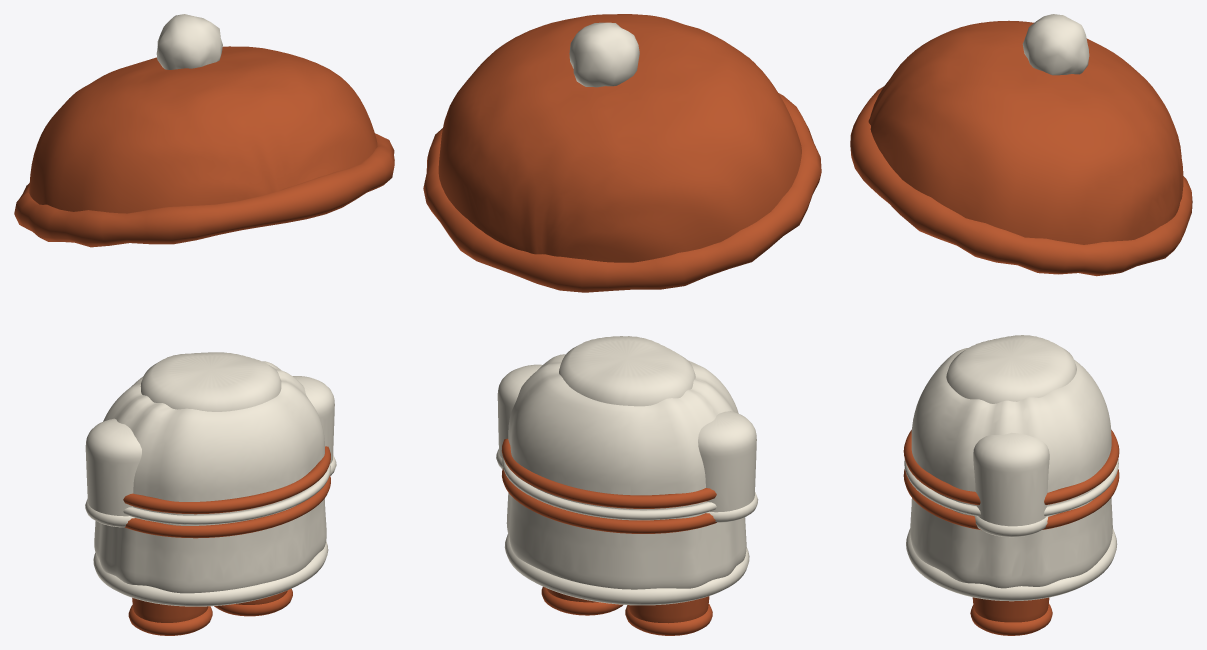
Rendered from sun.glb.
The picture shows the model from 3 angles, left to right: view 1: azimuth 30°, elevation 25°; view 2: azimuth 150°, elevation 25°; view 3: azimuth 270°, elevation 25°; orthographic projection. The views are drawn at different scales.
Visible parts, largest first — view 1: sun_Head_00_beanie, sun_Torso_00_sweater, sun_Head_01_beanie_cuff, sun_Torso_04_turtleneck, sun_ArmL_00_sleeve, sun_Torso_05_hem, sun_Head_02_beanie_pompom, sun_Torso_01_stripe0, sun_Torso_02_stripe1, sun_Torso_03_stripe_mid, sun_ArmR_00_sleeve.001, sun_Legs_00_joggers-1 (+2 smaller); view 2: sun_Head_00_beanie, sun_Torso_00_sweater, sun_Head_01_beanie_cuff, sun_Torso_04_turtleneck, sun_ArmL_00_sleeve, sun_Torso_05_hem, sun_Head_02_beanie_pompom, sun_Torso_01_stripe0, sun_Torso_02_stripe1, sun_Torso_03_stripe_mid, sun_ArmR_00_sleeve.001, sun_Legs_00_joggers-1 (+2 smaller); view 3: sun_Head_00_beanie, sun_Torso_00_sweater, sun_Head_01_beanie_cuff, sun_Torso_04_turtleneck, sun_ArmR_00_sleeve.001, sun_Head_02_beanie_pompom, sun_Torso_05_hem, sun_Torso_01_stripe0, sun_Torso_02_stripe1, sun_Torso_03_stripe_mid, sun_Legs_02_joggers1, sun_Legs_03_joggers_cuff1 (+1 smaller).
Boxes of the visible parts, x1=… form: sun_Head_00_beanie: x1=29, y1=46, x2=377, y2=213; sun_Torso_00_sweater: x1=94, y1=361, x2=326, y2=593; sun_Head_01_beanie_cuff: x1=14, y1=133, x2=394, y2=247; sun_Torso_04_turtleneck: x1=140, y1=352, x2=281, y2=411; sun_ArmL_00_sleeve: x1=85, y1=418, x2=141, y2=516; sun_Torso_05_hem: x1=93, y1=541, x2=328, y2=606; sun_Head_02_beanie_pompom: x1=156, y1=14, x2=222, y2=69; sun_Torso_01_stripe0: x1=123, y1=446, x2=330, y2=514; sun_Torso_02_stripe1: x1=125, y1=475, x2=330, y2=538; sun_Torso_03_stripe_mid: x1=123, y1=464, x2=330, y2=524; sun_ArmR_00_sleeve.001: x1=293, y1=376, x2=334, y2=463; sun_Legs_00_joggers-1: x1=132, y1=598, x2=208, y2=622; sun_Head_00_beanie: x1=438, y1=14, x2=801, y2=262; sun_Torso_00_sweater: x1=506, y1=354, x2=746, y2=589; sun_Head_01_beanie_cuff: x1=423, y1=93, x2=821, y2=292; sun_Torso_04_turtleneck: x1=559, y1=336, x2=695, y2=406; sun_ArmL_00_sleeve: x1=698, y1=411, x2=756, y2=512; sun_Torso_05_hem: x1=504, y1=534, x2=749, y2=605; sun_Head_02_beanie_pompom: x1=569, y1=22, x2=639, y2=87; sun_Torso_01_stripe0: x1=501, y1=438, x2=716, y2=508; sun_Torso_02_stripe1: x1=502, y1=468, x2=716, y2=533; sun_Torso_03_stripe_mid: x1=502, y1=457, x2=716, y2=520; sun_ArmR_00_sleeve.001: x1=497, y1=364, x2=542, y2=458; sun_Legs_00_joggers-1: x1=628, y1=596, x2=709, y2=623; sun_Head_00_beanie: x1=868, y1=20, x2=1183, y2=244; sun_Torso_00_sweater: x1=910, y1=348, x2=1112, y2=588; sun_Head_01_beanie_cuff: x1=850, y1=86, x2=1192, y2=276; sun_Torso_04_turtleneck: x1=946, y1=335, x2=1076, y2=403; sun_ArmR_00_sleeve.001: x1=973, y1=432, x2=1049, y2=526; sun_Head_02_beanie_pompom: x1=1022, y1=14, x2=1089, y2=75; sun_Torso_05_hem: x1=906, y1=528, x2=1117, y2=601; sun_Torso_01_stripe0: x1=903, y1=429, x2=1119, y2=505; sun_Torso_02_stripe1: x1=903, y1=469, x2=1119, y2=529; sun_Torso_03_stripe_mid: x1=904, y1=459, x2=1118, y2=516; sun_Legs_02_joggers1: x1=972, y1=597, x2=1049, y2=622; sun_Legs_03_joggers_cuff1: x1=970, y1=603, x2=1052, y2=635.
Size of the model in its own units: 1.79 by 2.88 by 1.54.
